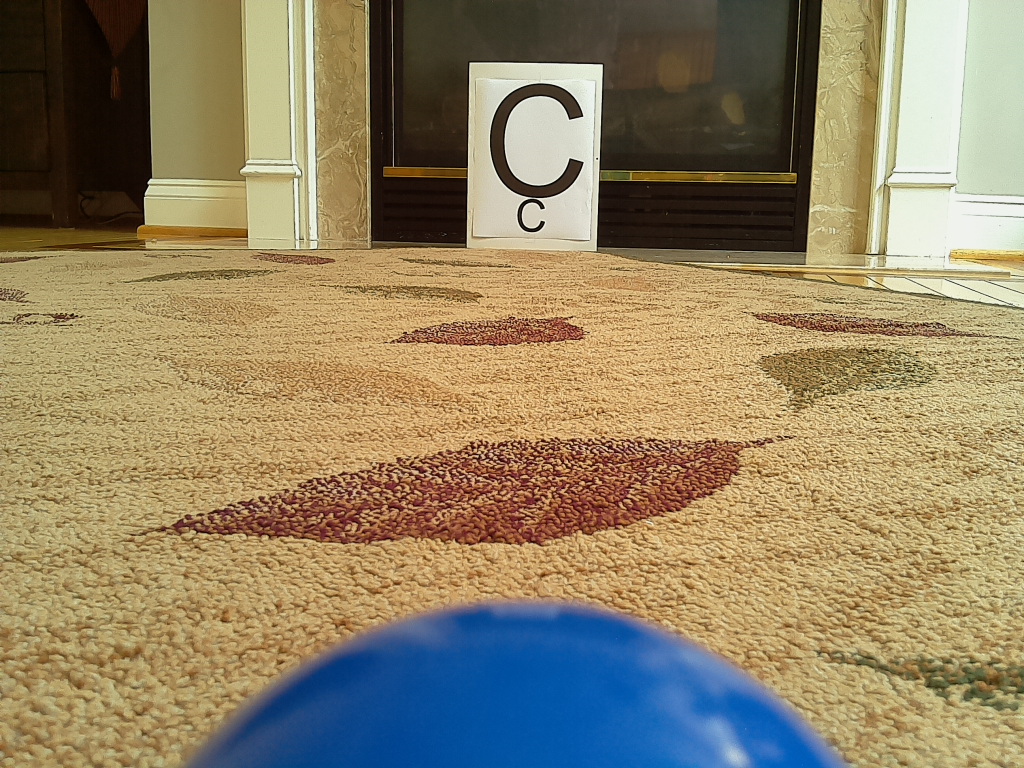letter: (490, 84, 585, 200)
